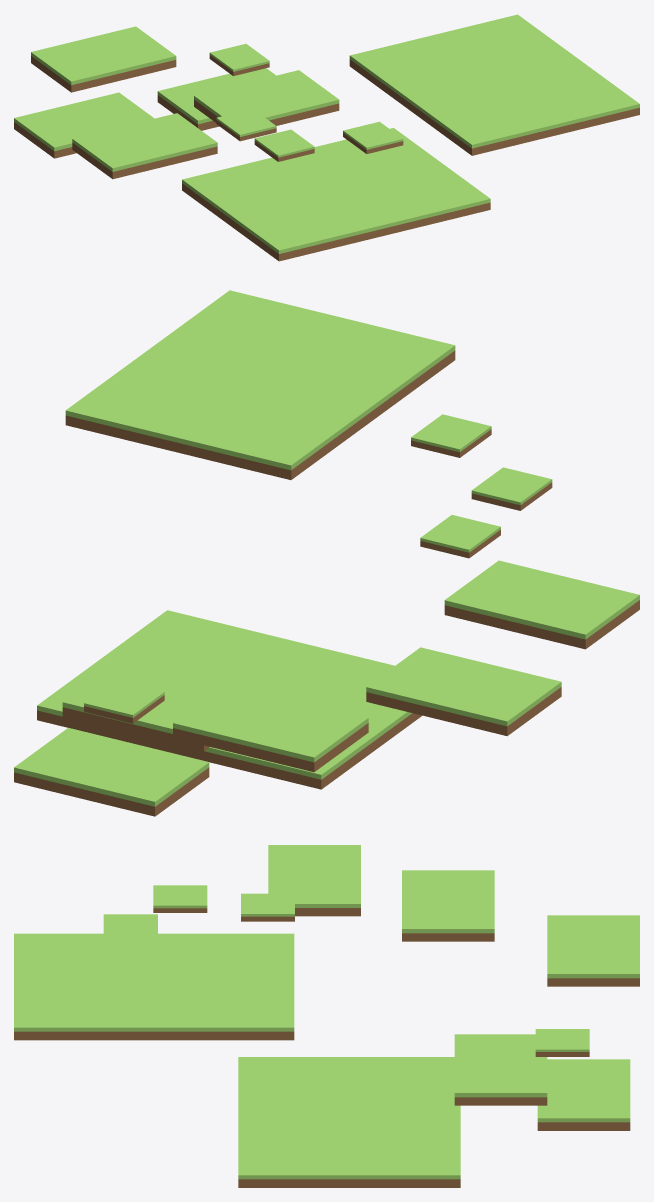
The model's file is Land2.fbx.
3 views of the same model, one above another, from view 1: azimuth 30°, elevation 25°; view 2: azimuth 150°, elevation 25°; view 3: azimuth 270°, elevation 25° (orthographic). The views are drawn at different scales.
Visible parts, largest first — view 1: Cube.008, Cube.002, Cube.006, Cube.003, Cube.001, Cube.005, Cube.007, Cube.010, Cube.009, Cube.011, Cube.004; view 2: Cube.008, Cube.002, Cube.003, Cube.005, Cube.006, Cube.007, Cube.001, Cube.010, Cube.009, Cube.011, Cube.004; view 3: Cube.008, Cube.002, Cube.003, Cube.005, Cube.001, Cube.007, Cube.006, Cube.009, Cube.004, Cube.010, Cube.011.
Boxes of the visible parts, x1,y1,x2,y2 form: Cube.008: (349, 14, 639, 155); Cube.002: (182, 128, 490, 261); Cube.006: (72, 113, 217, 179); Cube.003: (31, 26, 176, 92); Cube.001: (194, 70, 339, 125); Cube.005: (14, 92, 154, 158); Cube.007: (157, 68, 275, 130); Cube.010: (254, 129, 314, 161); Cube.009: (216, 109, 276, 141); Cube.011: (343, 121, 403, 153); Cube.004: (209, 44, 269, 75); Cube.008: (65, 290, 455, 479); Cube.002: (37, 610, 421, 789); Cube.003: (173, 683, 368, 772); Cube.005: (366, 647, 561, 736); Cube.006: (444, 560, 639, 649); Cube.007: (14, 728, 209, 816); Cube.001: (62, 662, 220, 751); Cube.010: (471, 467, 552, 510); Cube.009: (420, 515, 500, 558); Cube.011: (411, 414, 491, 457); Cube.004: (84, 680, 164, 723); Cube.008: (14, 933, 294, 1040); Cube.002: (238, 1057, 460, 1187); Cube.003: (547, 915, 639, 986); Cube.005: (402, 870, 494, 941); Cube.001: (454, 1034, 547, 1105); Cube.007: (537, 1059, 630, 1130); Cube.006: (268, 845, 360, 916); Cube.009: (241, 893, 294, 921); Cube.004: (535, 1029, 589, 1056); Cube.010: (153, 885, 207, 912); Cube.011: (103, 914, 157, 933).
Bounding box in the file's own units: 11886 × 4500 × 13503.
